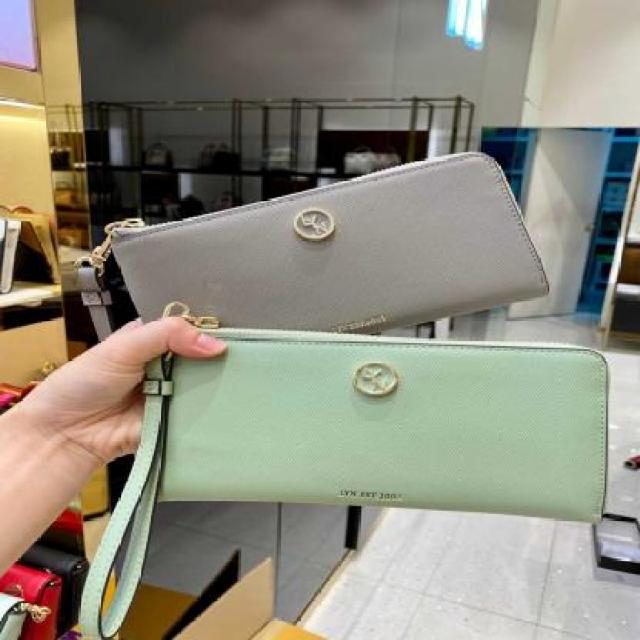Bag: (14, 272, 640, 640), (54, 122, 640, 395)
